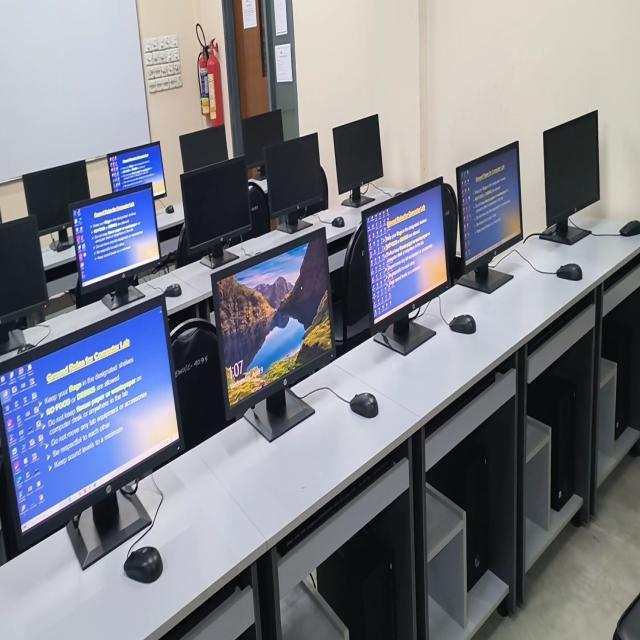Chair: (171, 319, 228, 450), (331, 226, 371, 356), (442, 183, 457, 286), (249, 183, 270, 237), (176, 225, 190, 268)
Cpu: (317, 491, 411, 639), (428, 436, 488, 591), (528, 368, 578, 510), (602, 311, 632, 439)
Fire Extinguisher: (207, 43, 224, 126), (198, 53, 210, 115)
Monitor: (0, 301, 181, 536), (218, 239, 332, 404), (365, 181, 448, 325), (72, 184, 159, 292), (456, 141, 522, 279), (0, 216, 48, 354), (543, 111, 600, 226), (181, 158, 250, 250), (22, 160, 90, 244), (263, 133, 327, 217), (333, 114, 383, 207), (107, 141, 166, 199), (242, 110, 284, 168), (179, 124, 228, 172)
Mouse: (124, 546, 163, 583), (350, 393, 378, 417), (449, 315, 476, 334), (556, 263, 582, 280), (620, 220, 640, 236), (164, 283, 182, 297), (331, 216, 344, 228), (166, 205, 174, 213)
